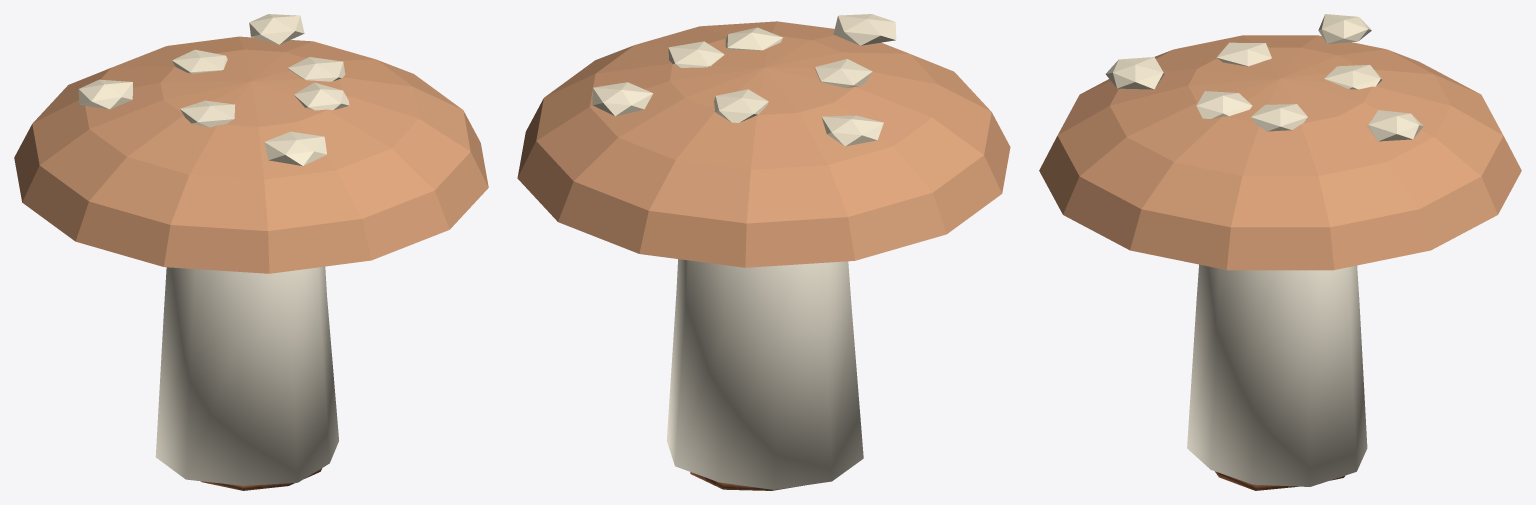
Rendered from mushroom_stool.glb.
The picture shows the model from 3 angles, left to right: view 1: azimuth 30°, elevation 25°; view 2: azimuth 150°, elevation 25°; view 3: azimuth 270°, elevation 25°; orthographic projection. The views are drawn at different scales.
Parts seen in each view (by area): view 1: model; view 2: model; view 3: model.
Boxes of the visible parts, left/top/right/bottom form: model: left=14, top=14, right=488, bottom=490; model: left=517, top=14, right=1010, bottom=490; model: left=1039, top=14, right=1521, bottom=490.
Bounding box in the file's own units: 0.507 × 0.455 × 0.52.
4 materials, 1 textured.
